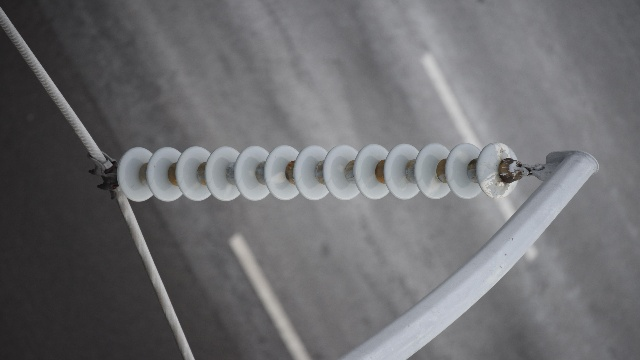insulator_unspecified: (118, 142, 520, 203)
pollution_flashover_local: (482, 175, 509, 197), (493, 142, 511, 162), (428, 176, 445, 195), (399, 177, 410, 194)
